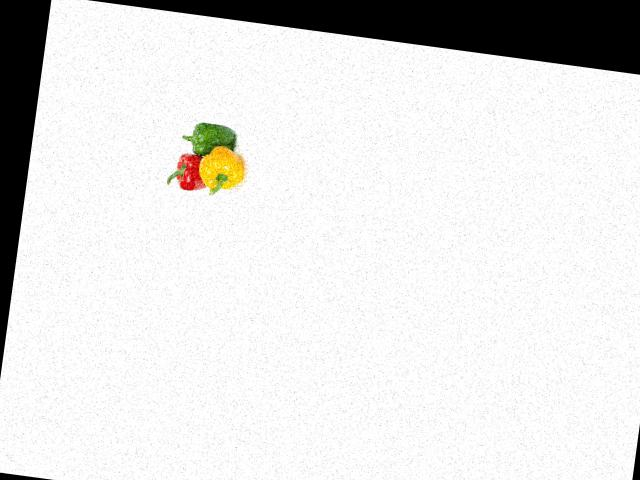bell_pepper: (160, 144, 217, 199)
